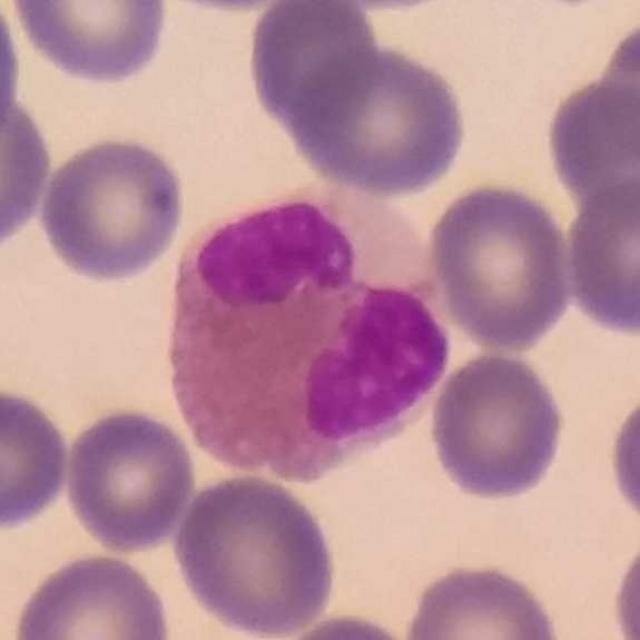Eosinophil: (161, 184, 451, 483)
RBC: (282, 39, 472, 198), (170, 468, 341, 640), (423, 177, 578, 354), (36, 131, 189, 285), (425, 347, 569, 504), (59, 403, 199, 555), (241, 0, 381, 132), (9, 548, 176, 640), (3, 0, 174, 87), (542, 72, 640, 220), (399, 558, 566, 640), (560, 172, 640, 340), (0, 381, 75, 534), (0, 80, 56, 259), (592, 13, 640, 176), (604, 383, 640, 533), (270, 609, 423, 640), (607, 525, 640, 639), (0, 2, 24, 143), (163, 0, 325, 16)
